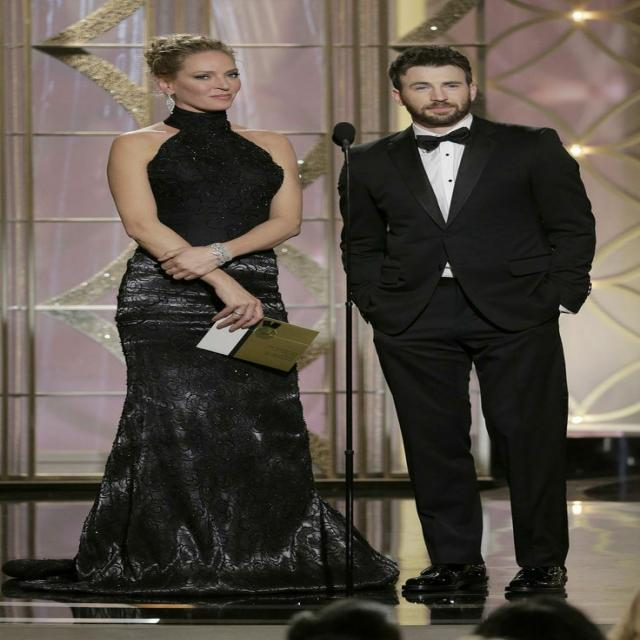female-dress: (107, 106, 325, 608)
male-dress: (344, 124, 610, 587)
